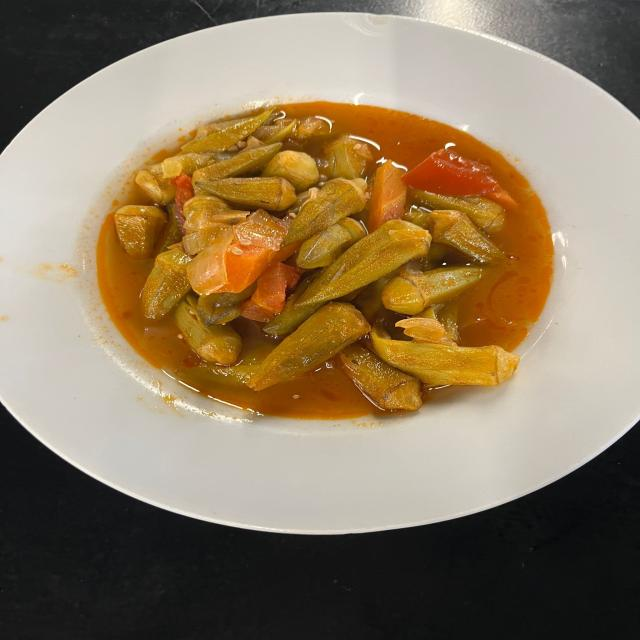ana_yemek: (105, 101, 540, 416)
